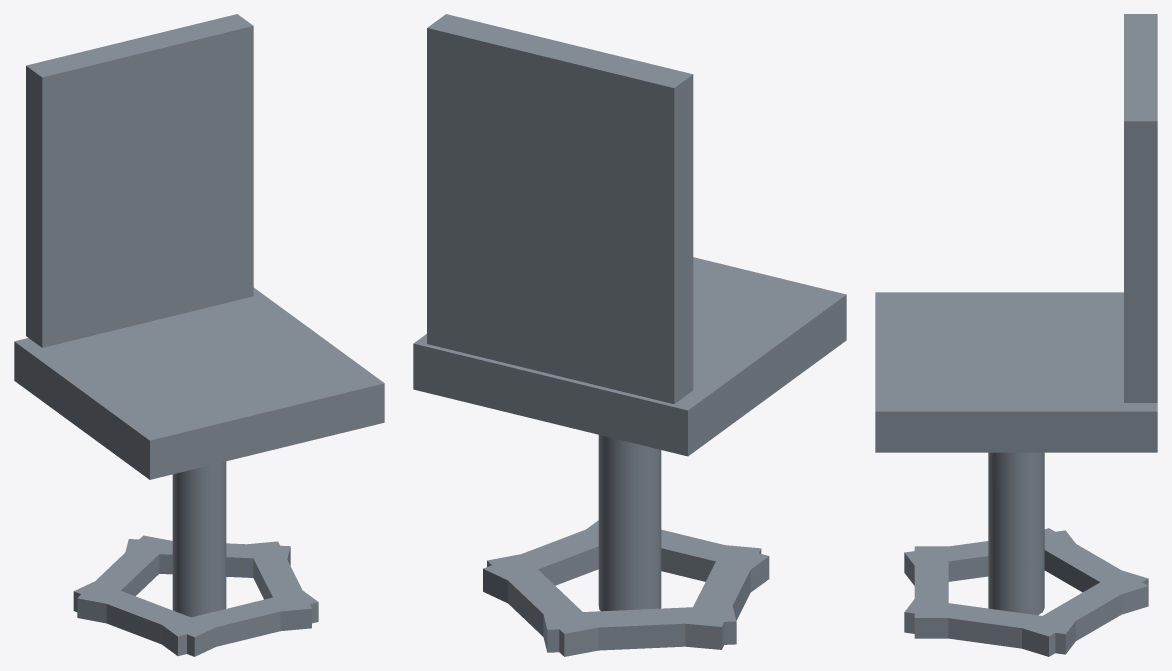
Rendered from office-chair.glb.
The picture shows the model from 3 angles, left to right: view 1: azimuth 30°, elevation 25°; view 2: azimuth 150°, elevation 25°; view 3: azimuth 270°, elevation 25°; orthographic projection. The views are drawn at different scales.
Parts seen in each view (by area): view 1: office-chair; view 2: office-chair; view 3: office-chair.
Boxes of the visible parts, x1=… form: office-chair: x1=14, y1=14, x2=384, y2=656; office-chair: x1=413, y1=14, x2=846, y2=656; office-chair: x1=875, y1=14, x2=1157, y2=656.
Size of the model in its own units: 0.5 by 1.05 by 0.5.
